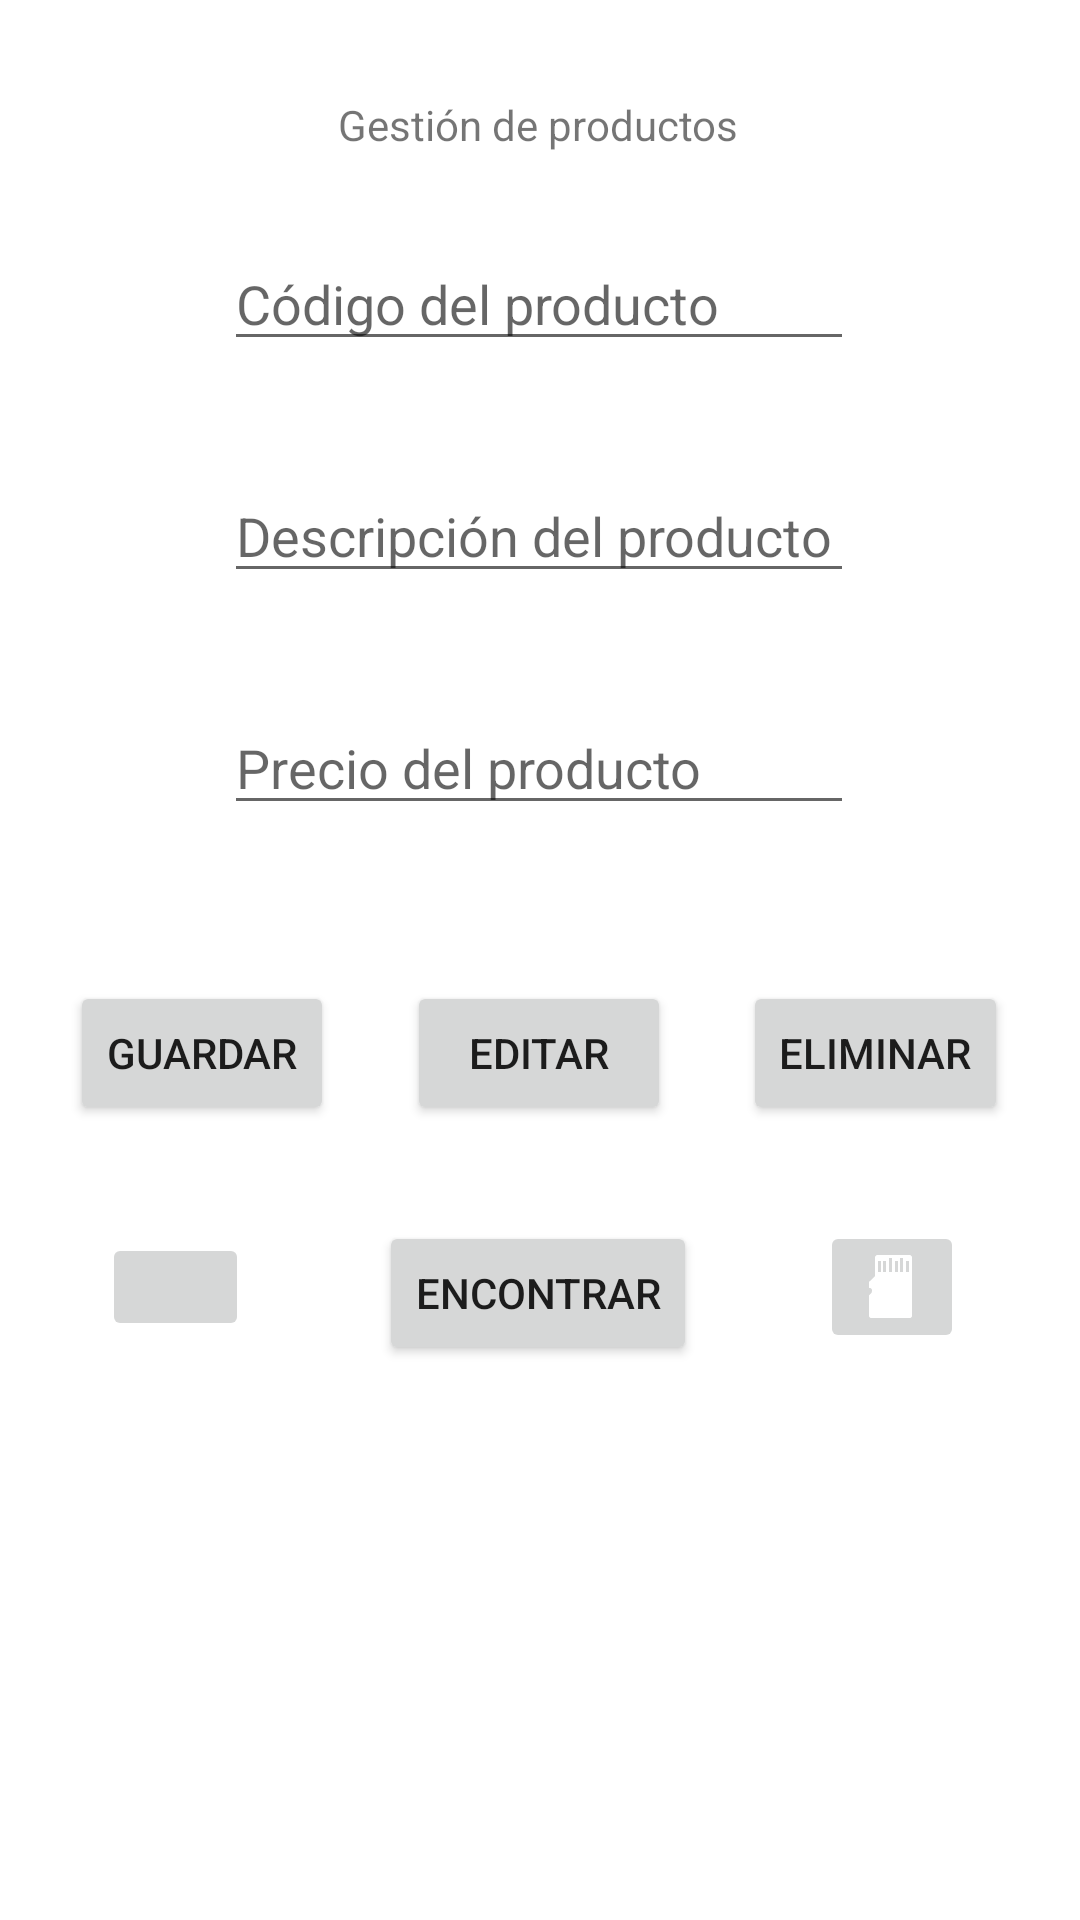

Named icons in this screenshot (1080 x 1920) and their centers, point (x, y):
sdcard: point (892, 1287)
